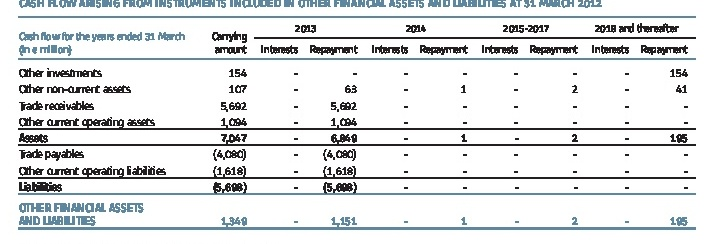table: (0, 0, 711, 244)
